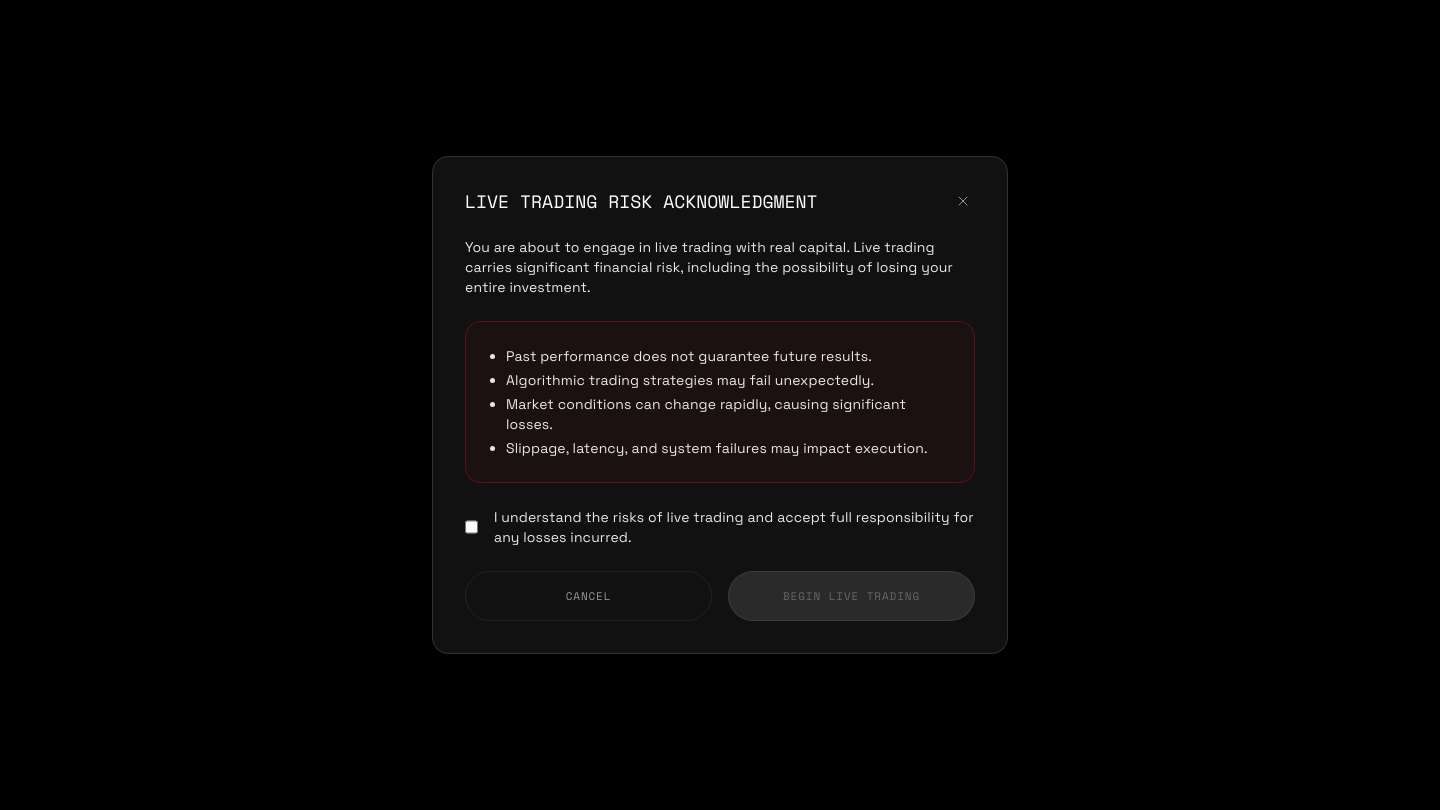
it: LiveTradingModal › enables begin button after checking the risk checkbox
The image size is (1440, 810).
Click the checkbox at (472, 527), box [465, 519, 478, 535]
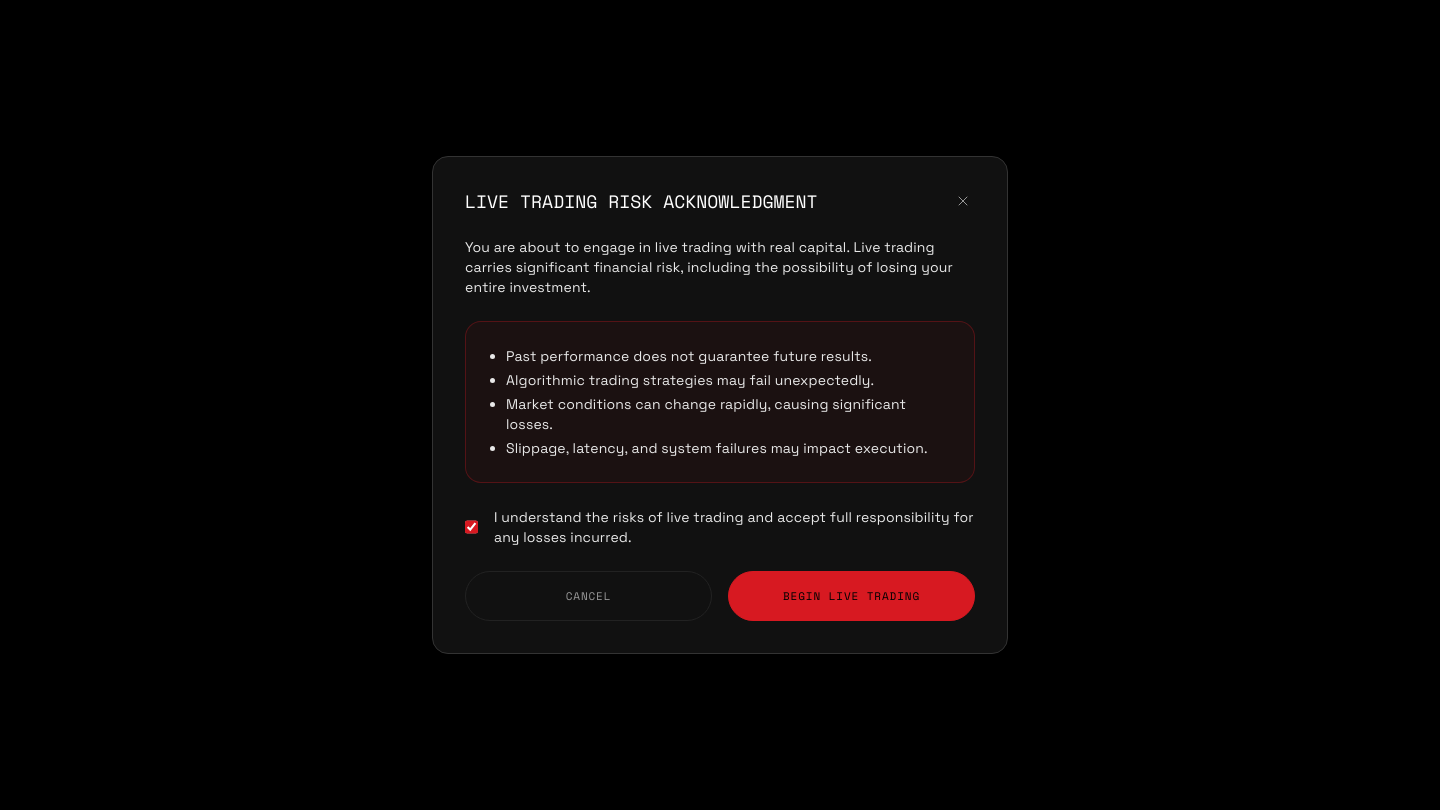
Expected: the button "BEGIN LIVE TRADING" is enabled, [728, 571, 975, 621]
